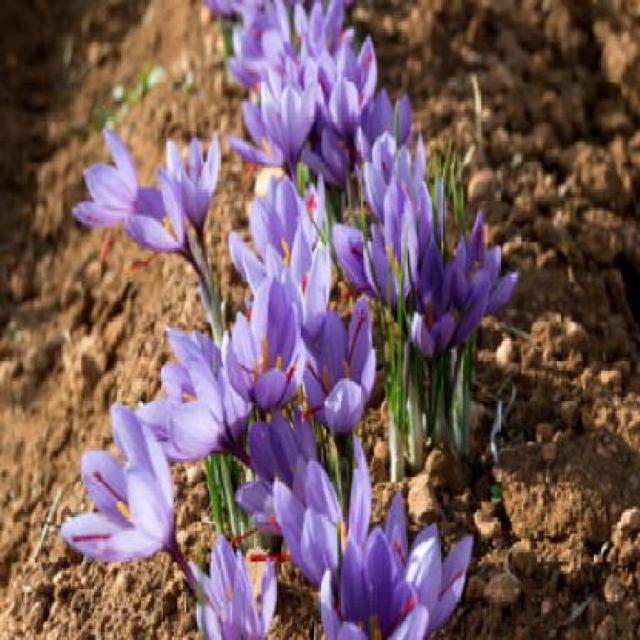Flower: (61, 402, 181, 588), (266, 450, 380, 593), (131, 334, 234, 472), (312, 280, 376, 446), (228, 282, 303, 410), (159, 128, 235, 234), (117, 174, 197, 272), (318, 30, 378, 139), (256, 72, 319, 168)
stigma: (88, 461, 130, 514), (345, 299, 368, 377), (67, 521, 119, 553)
